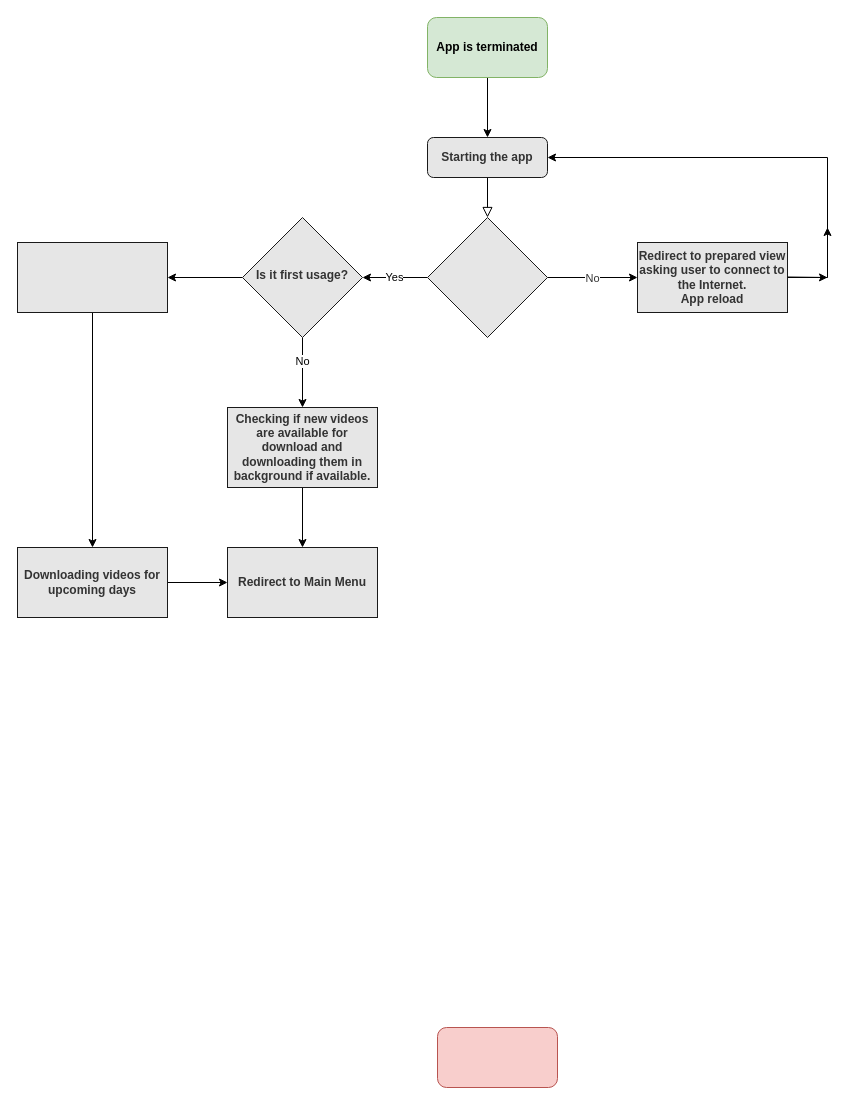
The diagram is 853 pixels wide and 1105 high, and some of its shapes have lost their labels. The box of each missing label's shape, as (x1, y1, x2, y2) in pixels:
End: (436, 1026, 558, 1088)
Is Internet reachable?: (426, 216, 548, 338)
User's first interaction with app. Providing necessary information.: (16, 242, 168, 312)
